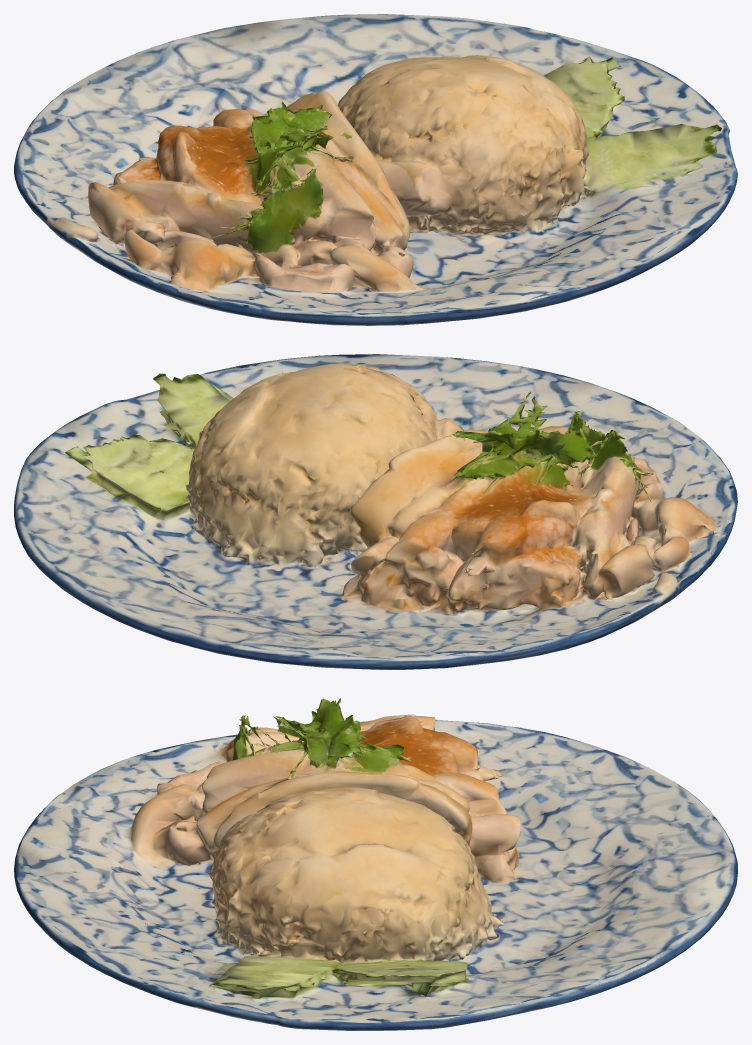
The model's file is kaomangai.glb.
3 views of the same model, one above another, from view 1: azimuth 30°, elevation 25°; view 2: azimuth 150°, elevation 25°; view 3: azimuth 270°, elevation 25° (orthographic).
Size of the model in its own units: 1.9 by 0.4184 by 1.9.
1 material, 1 textured.
